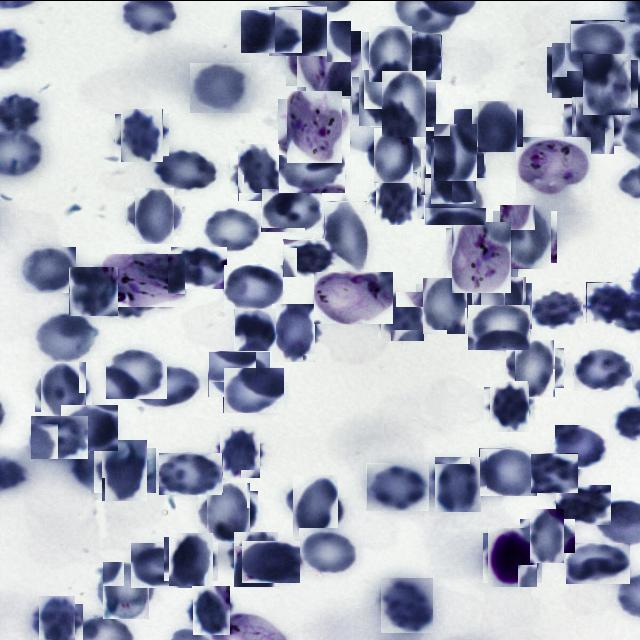leukocyte: (486, 530, 540, 584)
red blood cell: (33, 310, 99, 362), (496, 207, 554, 265), (106, 345, 167, 398), (376, 76, 432, 132), (190, 62, 251, 112), (279, 146, 345, 192), (366, 462, 429, 510), (288, 478, 342, 534), (98, 442, 152, 497), (426, 144, 481, 198), (380, 576, 433, 632), (268, 5, 327, 55), (299, 527, 359, 576), (324, 200, 367, 268), (580, 56, 634, 110), (424, 177, 486, 224), (208, 350, 270, 396), (223, 366, 284, 412), (468, 304, 530, 349), (479, 447, 537, 495), (132, 365, 199, 406), (131, 542, 192, 587), (240, 8, 302, 52), (202, 486, 254, 538), (100, 563, 152, 615), (432, 457, 484, 509), (477, 279, 529, 331), (261, 187, 322, 231), (268, 306, 319, 358), (160, 452, 223, 494), (566, 542, 630, 583), (61, 404, 118, 450), (38, 363, 89, 414), (224, 264, 283, 308), (30, 414, 88, 458), (550, 44, 601, 94), (21, 246, 76, 292), (568, 99, 618, 149), (420, 280, 470, 330), (230, 534, 280, 584), (356, 72, 406, 122), (366, 28, 416, 78), (430, 126, 480, 176), (154, 150, 218, 189), (204, 206, 259, 251), (510, 343, 560, 392), (234, 147, 283, 197), (574, 348, 632, 390), (454, 108, 512, 150), (242, 540, 300, 582), (555, 424, 609, 468), (570, 19, 625, 62), (171, 246, 227, 288), (167, 534, 216, 582), (70, 266, 119, 314), (373, 174, 421, 222), (118, 110, 166, 158), (130, 191, 178, 239), (370, 131, 417, 179), (556, 484, 611, 524), (379, 293, 426, 339), (218, 428, 264, 474), (487, 383, 532, 429), (475, 103, 520, 149), (283, 238, 337, 276), (396, 34, 442, 78), (526, 512, 570, 558), (530, 290, 583, 328), (190, 588, 234, 632), (530, 452, 578, 492), (586, 281, 631, 322), (34, 599, 79, 640), (234, 308, 276, 351)
trophozoite: (101, 252, 185, 306), (449, 223, 515, 290), (516, 136, 591, 194), (291, 25, 356, 90), (314, 271, 393, 323), (282, 94, 346, 158)
